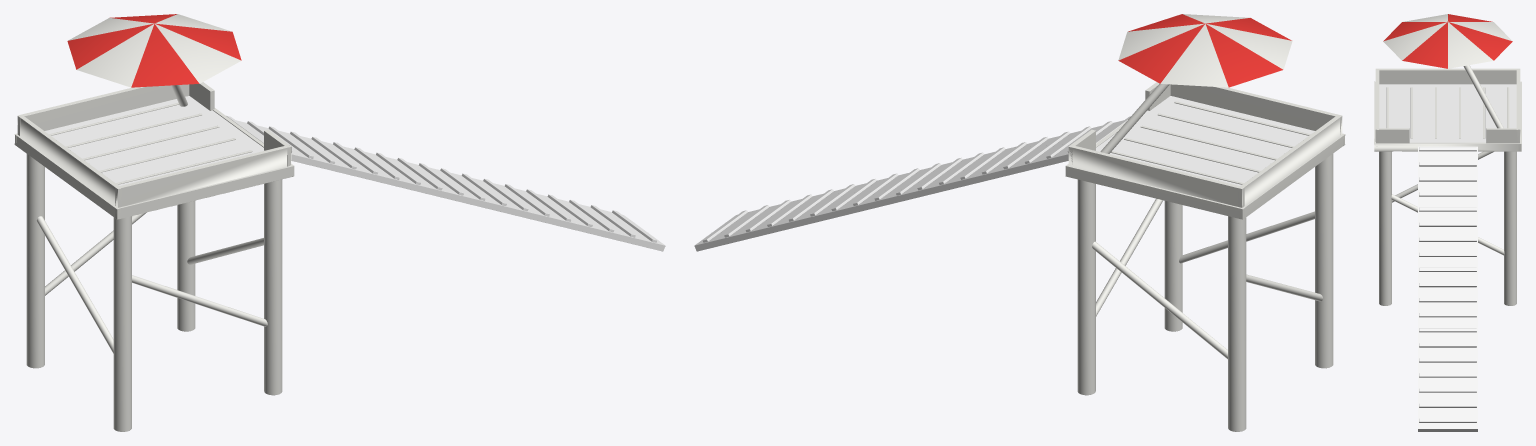
Rendered from lookout_13_canopy.glb.
3 views of the same model, side by side, from view 1: azimuth 30°, elevation 25°; view 2: azimuth 150°, elevation 25°; view 3: azimuth 270°, elevation 25° (orthographic). The views are drawn at different scales.
Visible parts, largest first — view 1: lookout_13_canopy.001; view 2: lookout_13_canopy.001; view 3: lookout_13_canopy.001.
Boxes of the visible parts, x1,y1,x2,y2 form: lookout_13_canopy.001: [14, 14, 665, 431]; lookout_13_canopy.001: [694, 14, 1345, 431]; lookout_13_canopy.001: [1374, 14, 1521, 431].
Bounding box in the file's own units: 40.02 × 23.4 × 12.28.
